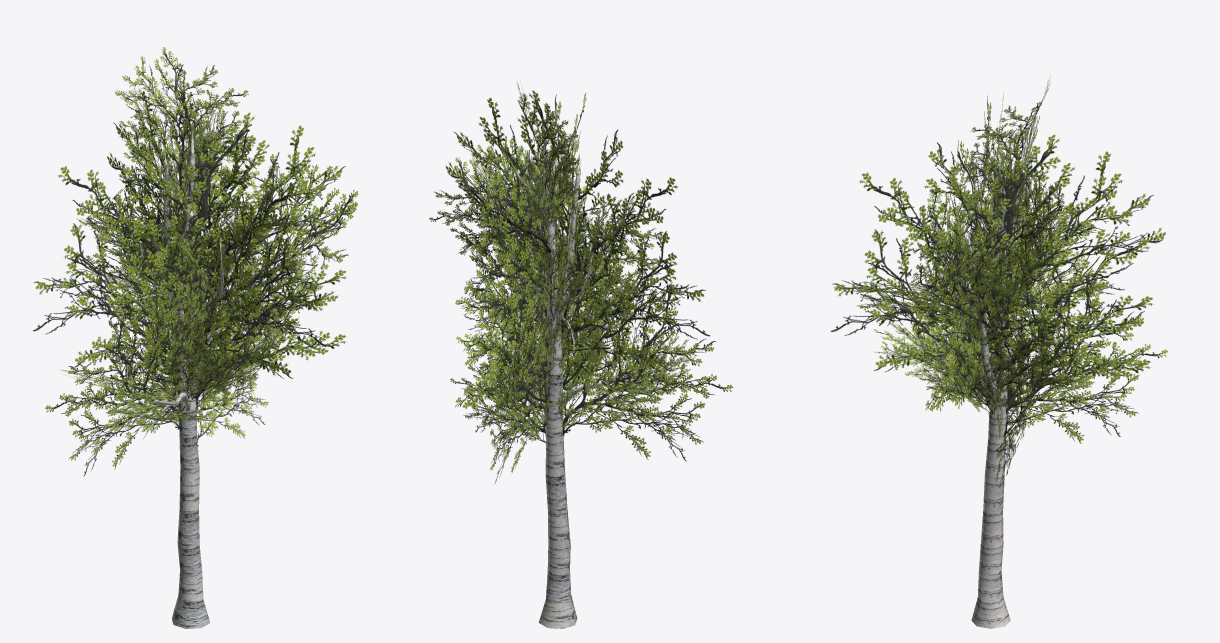
File: birch.glb
3 views of the same model, side by side, from view 1: azimuth 30°, elevation 25°; view 2: azimuth 150°, elevation 25°; view 3: azimuth 270°, elevation 25° (orthographic).
Visible parts, largest first — view 1: Object_2, Object_3; view 2: Object_2, Object_3; view 3: Object_2, Object_3.
Part boxes in pixels (<box>): Object_2: <box>33,47,358,476</box>; Object_3: <box>114,130,248,628</box>; Object_2: <box>429,83,732,483</box>; Object_3: <box>509,142,672,628</box>; Object_2: <box>830,77,1167,487</box>; Object_3: <box>927,145,1043,628</box>.
Size of the model in its own units: 17.03 by 26.27 by 17.3.
Materials: 2 (2 with a texture image).
